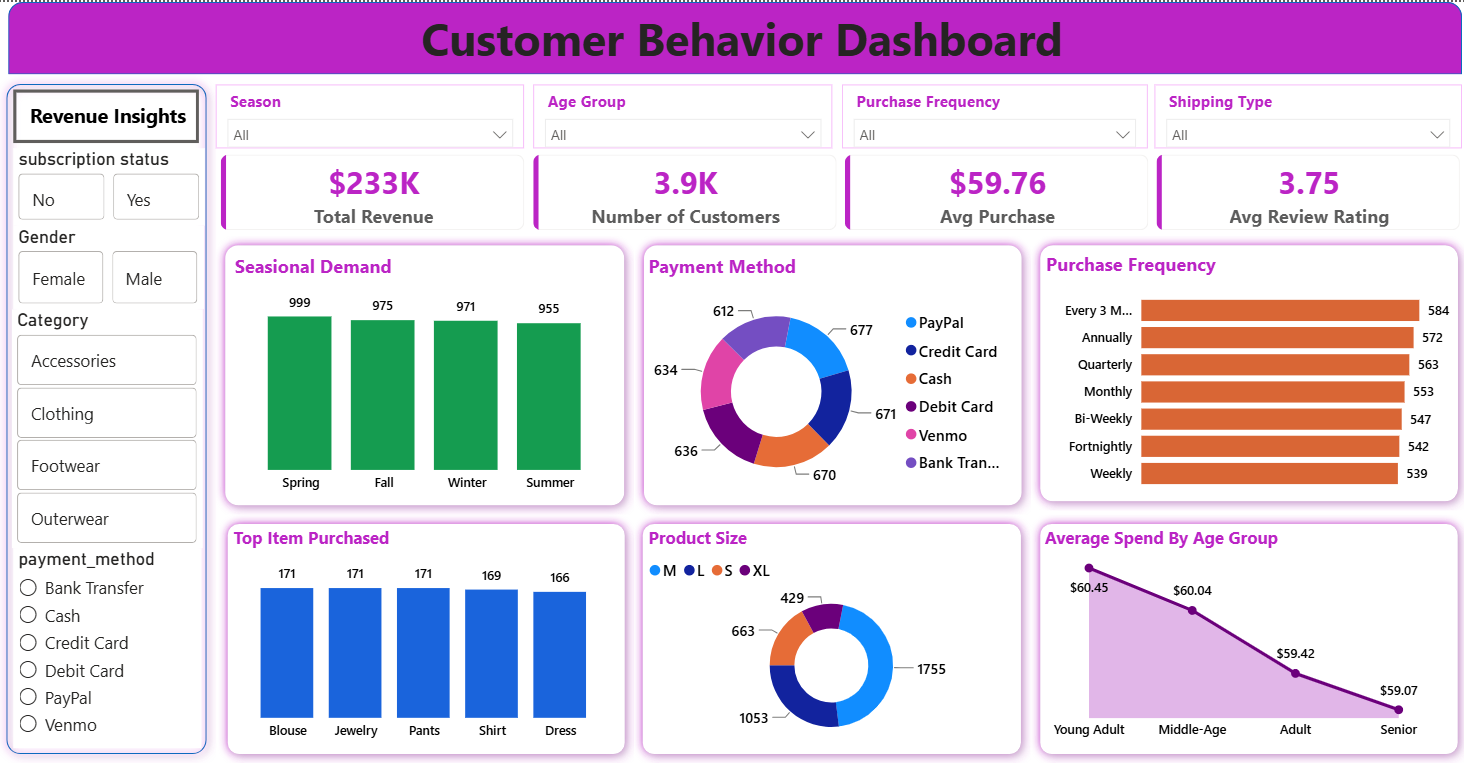

The page's visual inventory and layout, read from the dashboard file:
{"tool":"powerbi","page":{"name":" Behavior Insights","canvas":[1400,725],"ordinal":0},"visuals":[{"type":"shape","box":[10.7,0,1384.5,69],"z":0},{"type":"shape","box":[984.6,487.8,415.7,237.1],"z":1000},{"type":"shape","box":[210.1,487.8,396.2,237.1],"z":2000},{"type":"shape","box":[984.4,222.6,415.9,262],"z":3000},{"type":"shape","box":[606.7,222.6,377.7,265.8],"z":4000},{"type":"shape","box":[208.6,222.6,398.1,265.8],"z":5000},{"type":"cardVisual","fields":{"Data":["public customer.Total Sale","public customer.Number of Customer","public customer.Avg Purchased Amount","public customer.Avg Review Rating"]},"box":[208.6,139.9,1191.7,82.7],"z":6000},{"type":"clusteredColumnChart","title":"Top Item Purchased","fields":{"Category":["public customer.item_purchased"],"Y":["public customer.Number of Customers"]},"box":[220.6,498.3,373.7,213.1],"z":7000},{"type":"donutChart","title":"Payment Method","fields":{"Y":["public customer.Number of Customers"],"Category":["public customer.payment_method"]},"box":[615.6,239.1,358.6,241.6],"z":8000},{"type":"clusteredColumnChart","title":"Seasional Demand","fields":{"Category":["public customer.season"],"Y":["CountNonNull(public customer.customer_id)"]},"box":[221.3,239.1,373.9,236.6],"z":9000},{"type":"clusteredBarChart","title":"Purchase Frequency","fields":{"Y":["CountNonNull(public customer.customer_id)"],"Category":["public customer.frequency_of_purchases"]},"box":[993.6,238.6,394.7,237.1],"z":10000},{"type":"textbox","box":[31,0,1369,69],"z":11000},{"type":"shape","box":[0,68.7,208.6,656.3],"z":12000},{"type":"advancedSlicerVisual","fields":{"Values":["public customer.subscription_status"]},"box":[15.7,139,182.7,74],"z":13000},{"type":"advancedSlicerVisual","fields":{"Values":["public customer.gender"]},"box":[15.7,213,181.6,79.6],"z":14000},{"type":"advancedSlicerVisual","fields":{"Values":["public customer.category"]},"box":[14.6,292.6,181.6,227.5],"z":15000},{"type":"listSlicer","fields":{"Values":["public customer.payment_method"]},"box":[15.7,520.1,179.3,190.6],"z":16000},{"type":"areaChart","title":"Average Spend By Age Group","fields":{"Category":["public customer.age_group"],"Y":["public customer.Avg Purchase Amount"]},"box":[993.3,498.5,386.6,212.4],"z":17000},{"type":"shape","box":[606.3,487.8,378.2,237.1],"z":18000},{"type":"donutChart","title":"Product Size","fields":{"Category":["public customer.size"],"Y":["CountNonNull(public customer.customer_id)"]},"box":[615.4,498.3,358.7,213.1],"z":19000},{"type":"slicer","fields":{"Values":["public customer.age_group"]},"box":[511.3,78.9,284.9,61],"z":20000},{"type":"slicer","fields":{"Values":["public customer.season"]},"box":[208.6,78.9,293.8,61],"z":21000},{"type":"slicer","fields":{"Values":["public customer.frequency_of_purchases"]},"box":[805.1,78.9,291,61],"z":22000},{"type":"slicer","fields":{"Values":["public customer.shipping_type"]},"box":[1102.7,78.9,292.5,61],"z":23000},{"type":"textbox","box":[10.7,90.5,184.5,67.9],"z":24000},{"type":"actionButton","box":[15.5,83.3,177,51],"z":25000}]}

Visuals, with their boxes in screenshot pixels (x1, y1, x2, y2), scaled from the page's 1400x725 canvas onto the 1464x763 screenshot:
shape: left=11, top=0, right=1459, bottom=73
shape: left=1030, top=513, right=1463, bottom=762
shape: left=220, top=513, right=634, bottom=762
shape: left=1029, top=234, right=1463, bottom=510
shape: left=634, top=234, right=1029, bottom=514
shape: left=218, top=234, right=634, bottom=514
cardVisual - public customer.Total Sale x public customer.Number of Customer: left=218, top=147, right=1463, bottom=234
"Top Item Purchased" clusteredColumnChart: left=231, top=524, right=621, bottom=749
"Payment Method" donutChart: left=644, top=252, right=1019, bottom=506
"Seasional Demand" clusteredColumnChart: left=231, top=252, right=622, bottom=501
"Purchase Frequency" clusteredBarChart: left=1039, top=251, right=1452, bottom=501
textbox: left=32, top=0, right=1463, bottom=73
shape: left=0, top=72, right=218, bottom=762
advancedSlicerVisual - public customer.subscription_status: left=16, top=146, right=207, bottom=224
advancedSlicerVisual - public customer.gender: left=16, top=224, right=206, bottom=308
advancedSlicerVisual - public customer.category: left=15, top=308, right=205, bottom=547
listSlicer - public customer.payment_method: left=16, top=547, right=204, bottom=748
"Average Spend By Age Group" areaChart: left=1039, top=525, right=1443, bottom=748
shape: left=634, top=513, right=1030, bottom=762
"Product Size" donutChart: left=644, top=524, right=1019, bottom=749
slicer - public customer.age_group: left=535, top=83, right=833, bottom=147
slicer - public customer.season: left=218, top=83, right=525, bottom=147
slicer - public customer.frequency_of_purchases: left=842, top=83, right=1146, bottom=147
slicer - public customer.shipping_type: left=1153, top=83, right=1459, bottom=147
textbox: left=11, top=95, right=204, bottom=167
actionButton: left=16, top=88, right=201, bottom=141
